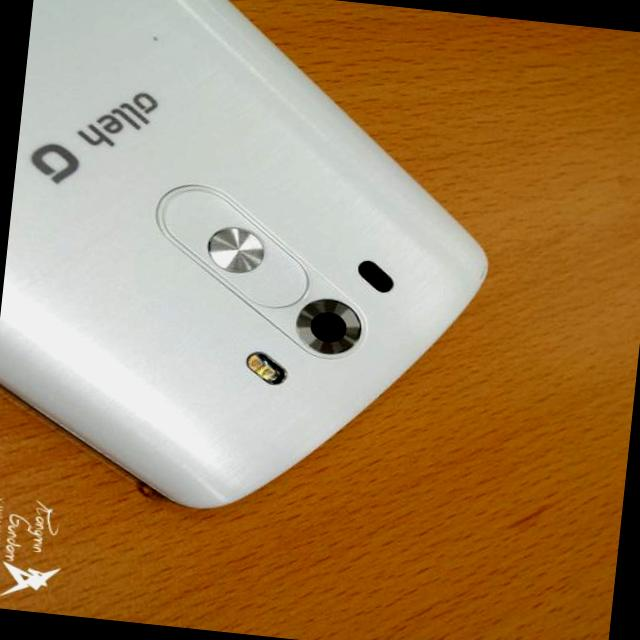lens_back: (282, 246, 401, 370)
